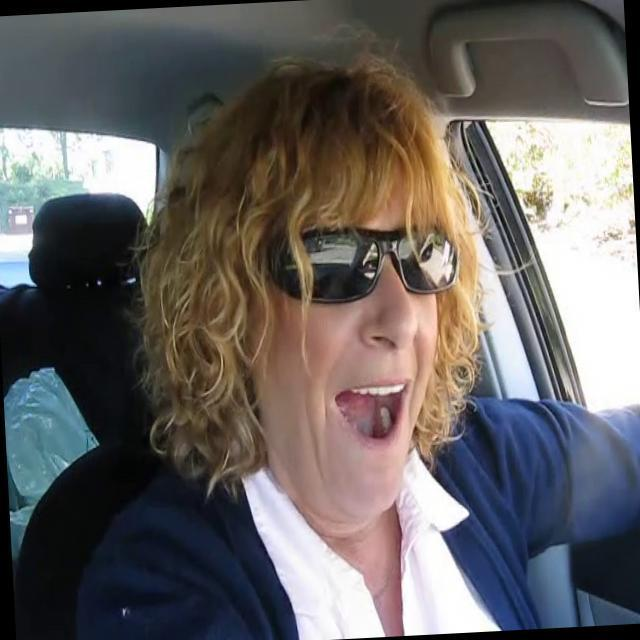open-mouth: (334, 378, 411, 447)
